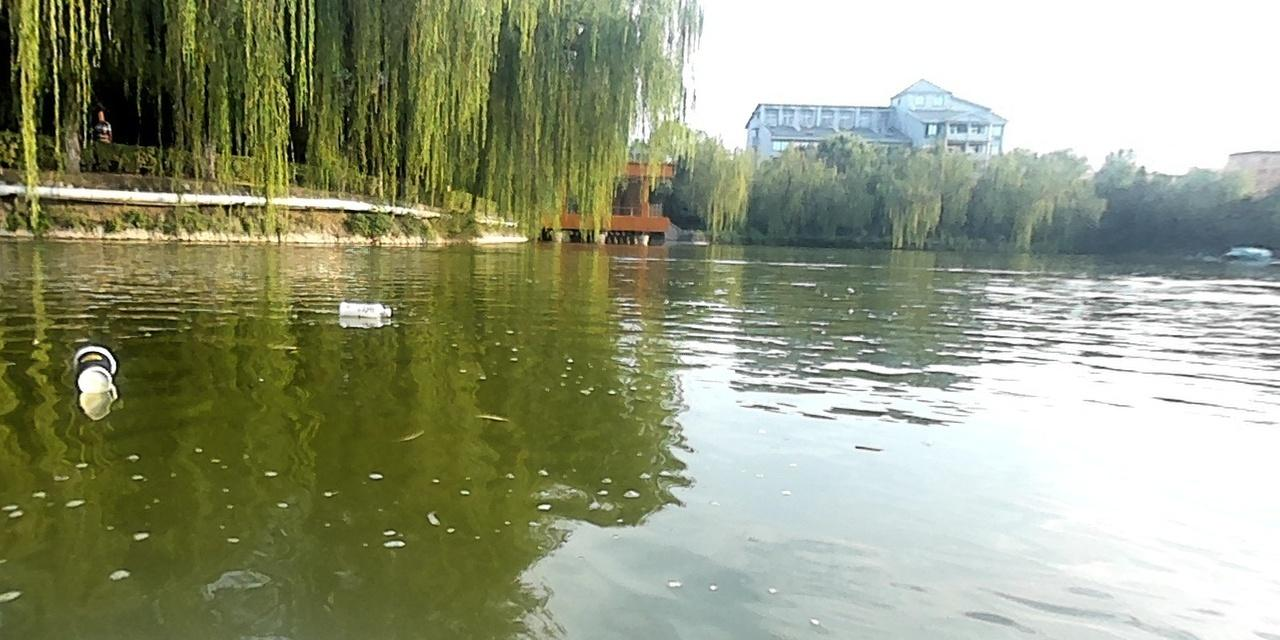bottle: (68, 341, 120, 394), (335, 297, 393, 320)
